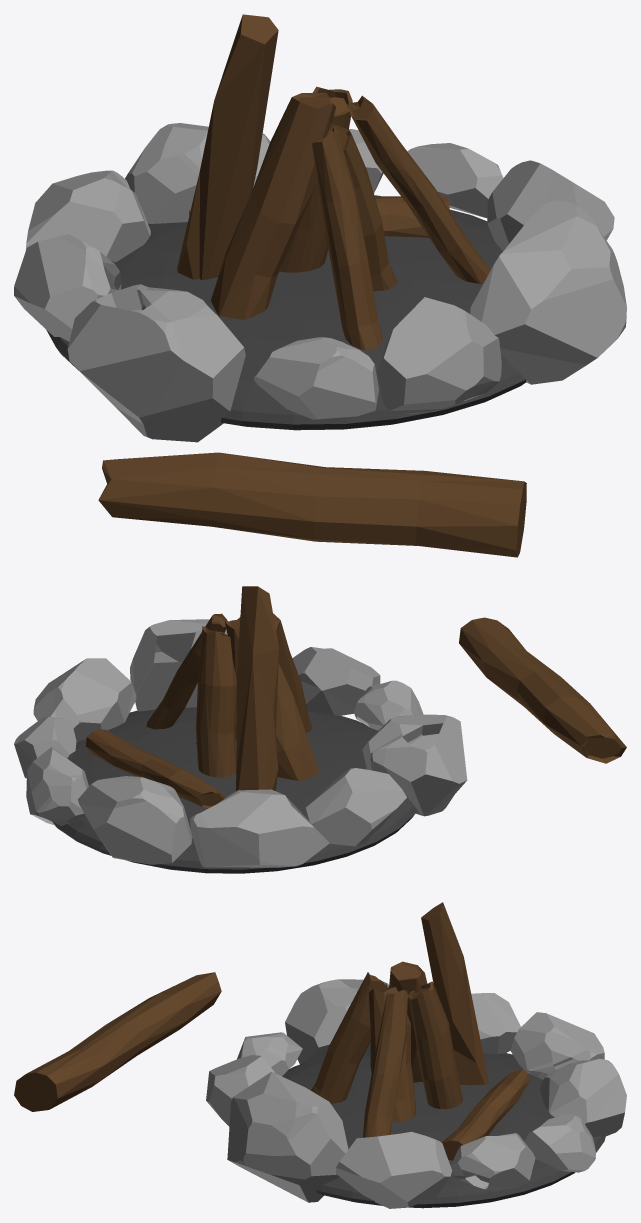
Rendered from fogata.fbx.
The picture shows the model from 3 angles, top to bottom: view 1: azimuth 30°, elevation 25°; view 2: azimuth 150°, elevation 25°; view 3: azimuth 270°, elevation 25°; orthographic projection. The views are drawn at different scales.
Parts seen in each view (by area): view 1: Rocas, Sphere; view 2: Rocas, Sphere; view 3: Rocas, Sphere.
Part boxes in pixels (x1,y1,x2,y2): Rocas: [14, 14, 626, 557]; Sphere: [46, 195, 526, 430]; Rocas: [14, 586, 626, 867]; Sphere: [53, 707, 416, 873]; Rocas: [14, 902, 626, 1208]; Sphere: [282, 1053, 605, 1208].
Bounding box in the file's own units: 569 × 282 × 673.
